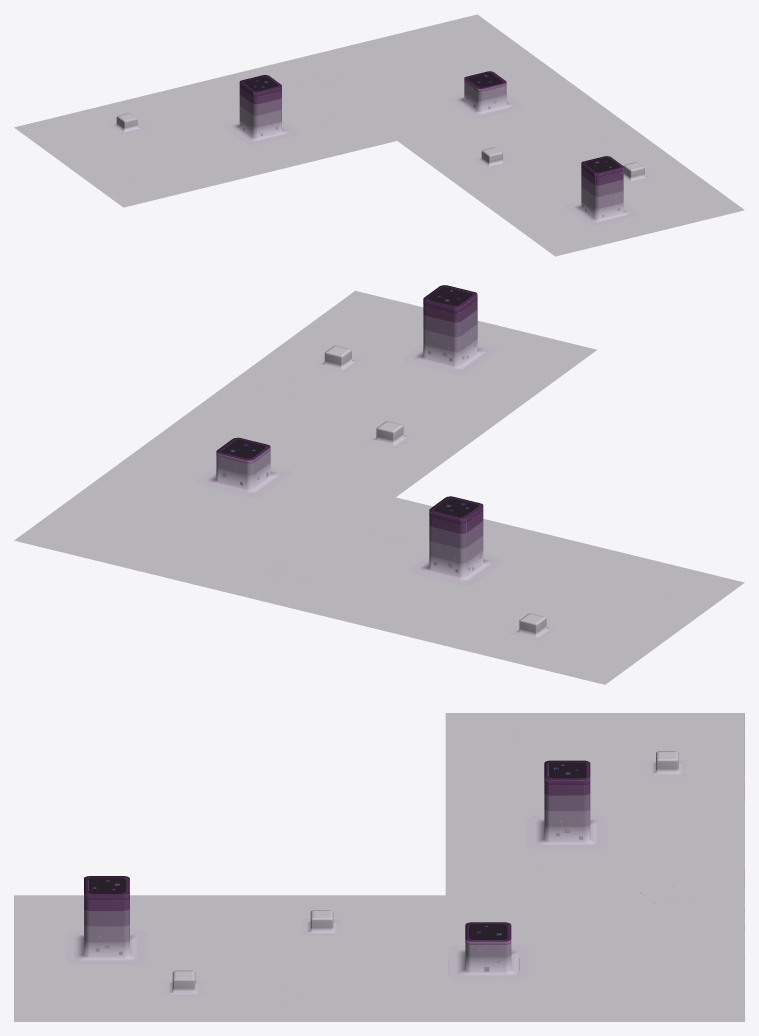
Rendered from C_special1_out_LD.fbx.
The picture shows the model from 3 angles, top to bottom: view 1: azimuth 30°, elevation 25°; view 2: azimuth 150°, elevation 25°; view 3: azimuth 270°, elevation 25°; orthographic projection. The views are drawn at different scales.
Visible parts, largest first — view 1: C_special1_out_LD.001; view 2: C_special1_out_LD.001; view 3: C_special1_out_LD.001.
Boxes of the visible parts, x1,y1,x2,y2 form: C_special1_out_LD.001: [14, 14, 744, 256]; C_special1_out_LD.001: [14, 285, 744, 684]; C_special1_out_LD.001: [14, 713, 744, 1021].
Bounding box in the file's own units: 127 × 12.34 × 127.
1 material, 1 textured.
